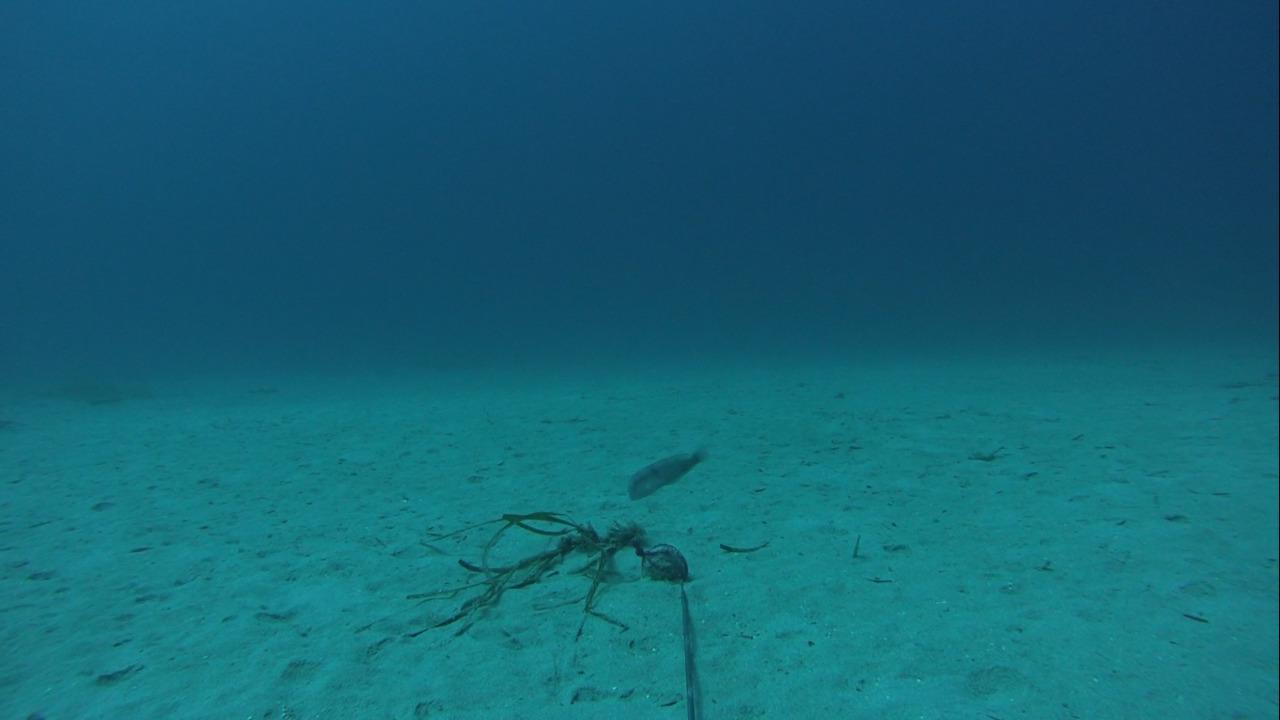raor: (625, 441, 713, 502)
